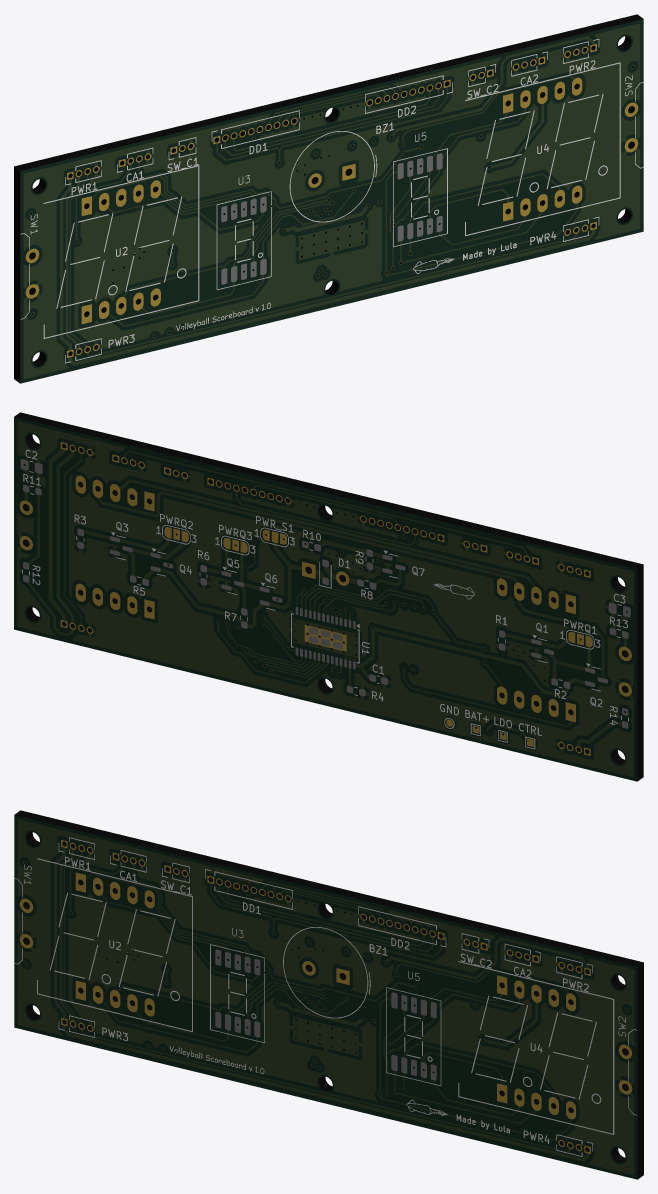
The model's file is display-board-small-v1.1-bare.glb.
3 views of the same model, one above another, from view 1: azimuth 30°, elevation 25°; view 2: azimuth 150°, elevation 25°; view 3: azimuth 330°, elevation 25° (orthographic).
Visible parts, largest first — view 1: SHAPE_5, SHAPE_3, SHAPE_1, SHAPE_9, SHAPE_4; view 2: SHAPE_5, SHAPE_3, SHAPE_1, SHAPE_9, SHAPE_4; view 3: SHAPE_5, SHAPE_3, SHAPE_1, SHAPE_9, SHAPE_4.
Boxes of the visible parts, x1,y1,x2,y2 form: SHAPE_5: (20,19,643,383); SHAPE_3: (24,24,639,378); SHAPE_1: (14,14,643,383); SHAPE_9: (20,39,643,363); SHAPE_4: (221,153,442,284); SHAPE_5: (14,417,637,781); SHAPE_3: (18,422,633,776); SHAPE_1: (14,412,643,781); SHAPE_9: (22,449,628,749); SHAPE_4: (20,459,630,728); SHAPE_5: (14,815,637,1179); SHAPE_3: (18,820,633,1174); SHAPE_1: (14,810,643,1179); SHAPE_9: (14,837,637,1156); SHAPE_4: (215,949,436,1080).
Bounding box in the file's own units: 0.092 × 0.03 × 0.00175.
